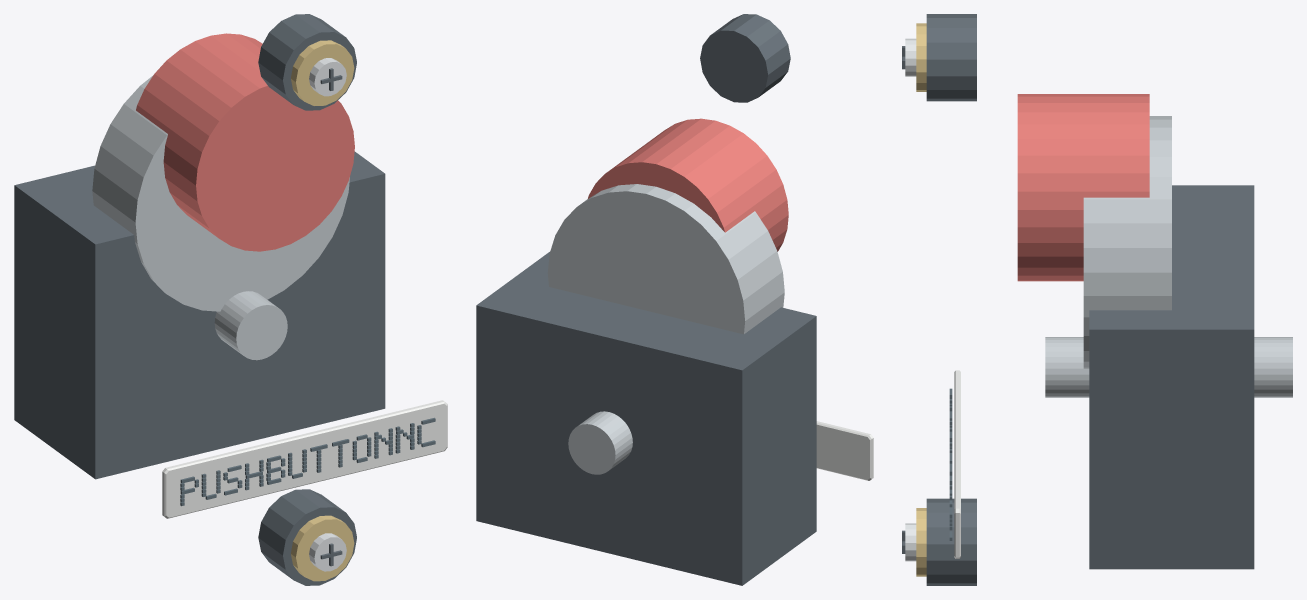
The model's file is pushButtonNC.glb.
3 views of the same model, side by side, from view 1: azimuth 30°, elevation 25°; view 2: azimuth 150°, elevation 25°; view 3: azimuth 270°, elevation 25° (orthographic). The views are drawn at different scales.
Visible parts, largest first — view 1: pushButtonNC-preview; view 2: pushButtonNC-preview; view 3: pushButtonNC-preview.
Boxes of the visible parts, x1,y1,x2,y2 form: pushButtonNC-preview: (14, 14, 447, 585); pushButtonNC-preview: (476, 14, 873, 585); pushButtonNC-preview: (902, 14, 1292, 585).
Bounding box in the file's own units: 1.22 × 2.23 × 1.4.
